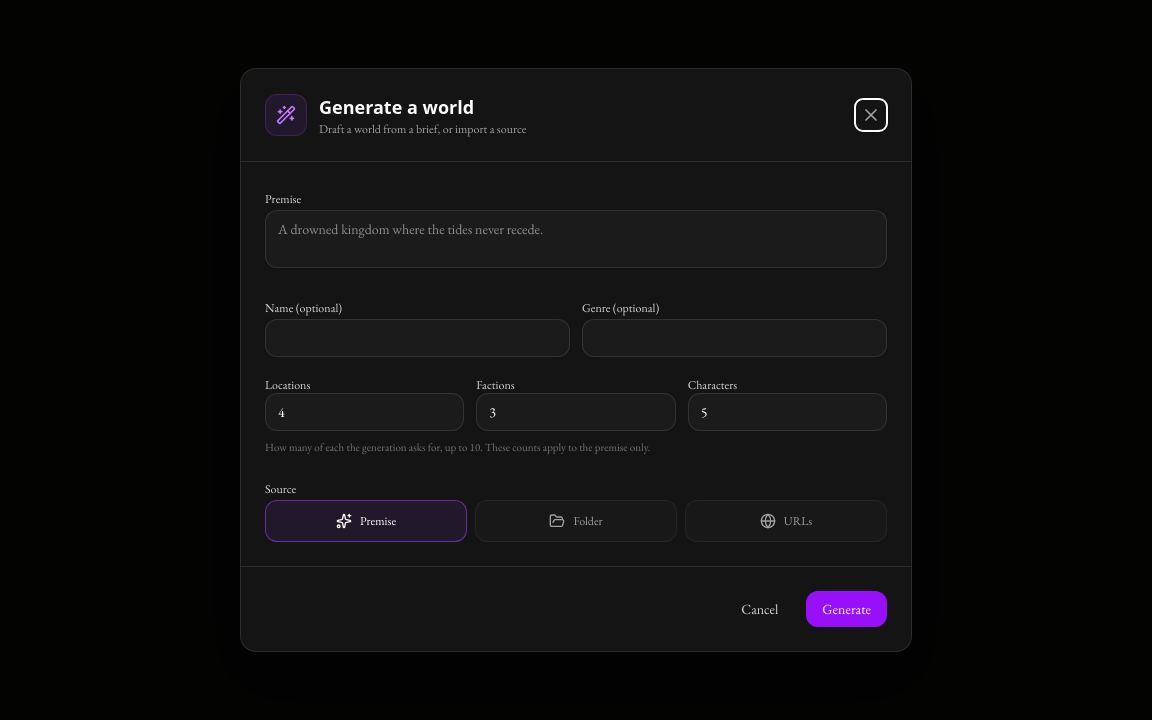
Test case: WorldGenerateDialog › hides the counts once a source decides how many entities exist
Expected: the number field labelled "Locations" is shown, x1=265 y1=393 x2=464 y2=431
Click the button "Folder". click: (576, 521)
box: x1=475 y1=500 x2=677 y2=542
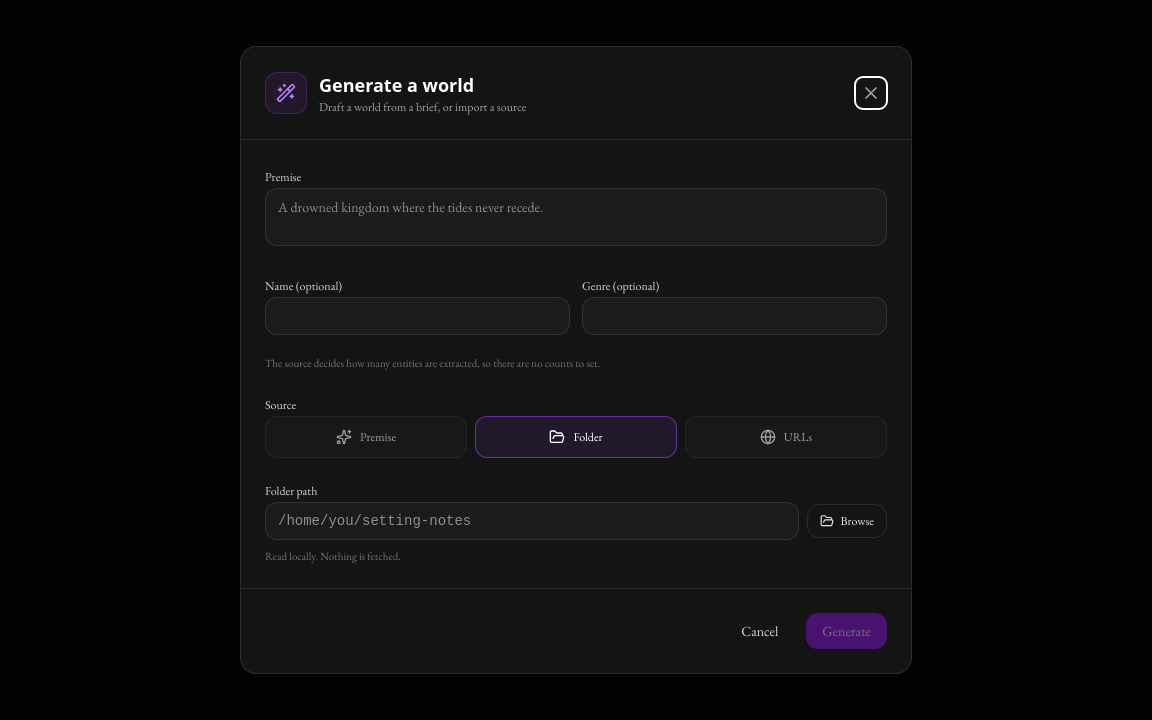
Expected: the label labelled "Locations" is gone
Expected: the text "The source decides how many entities" is shown, x1=265 y1=356 x2=600 y2=370
